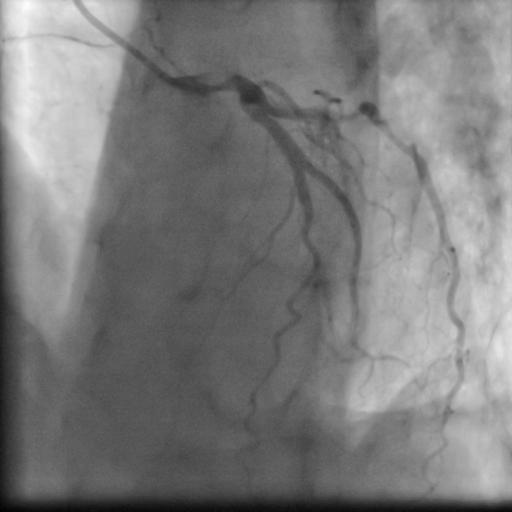Stenosis: (334, 103, 364, 128)
